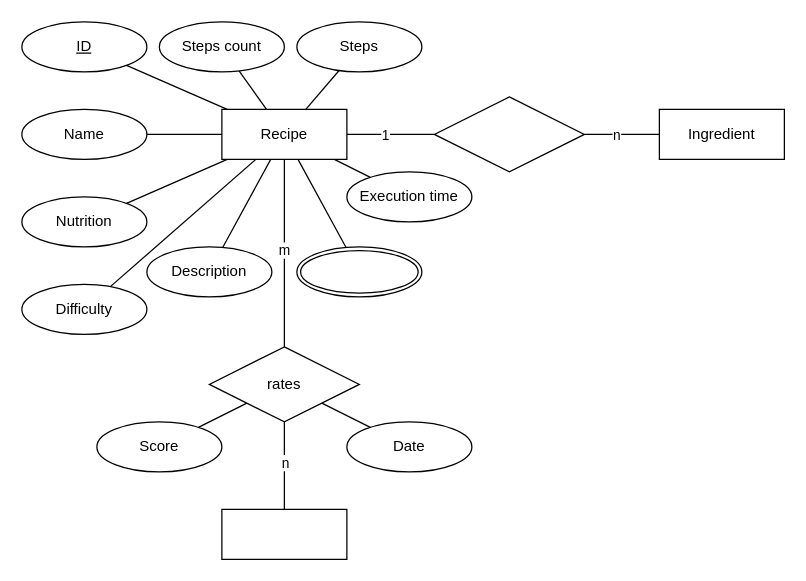
This 806x581 diagram has some shape labels left out. Each missing label, with the box of its shape:
has: (433, 96, 584, 172)
Tag: (296, 246, 422, 297)
User: (221, 508, 347, 559)
